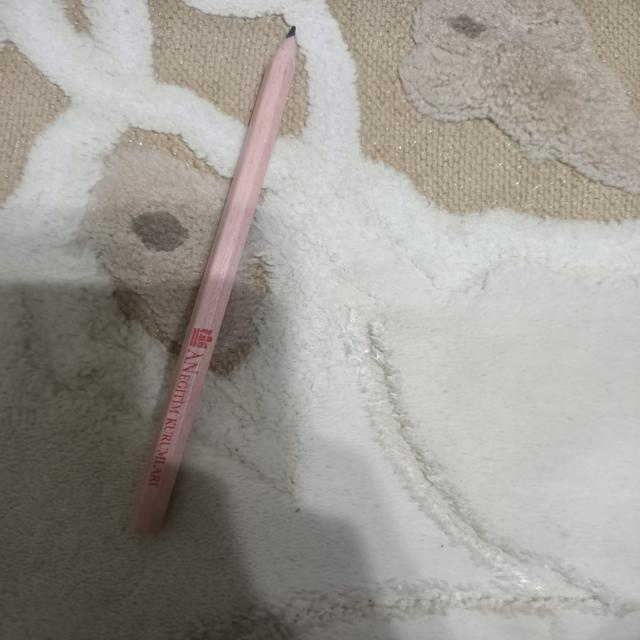pencil: (129, 26, 297, 534)
